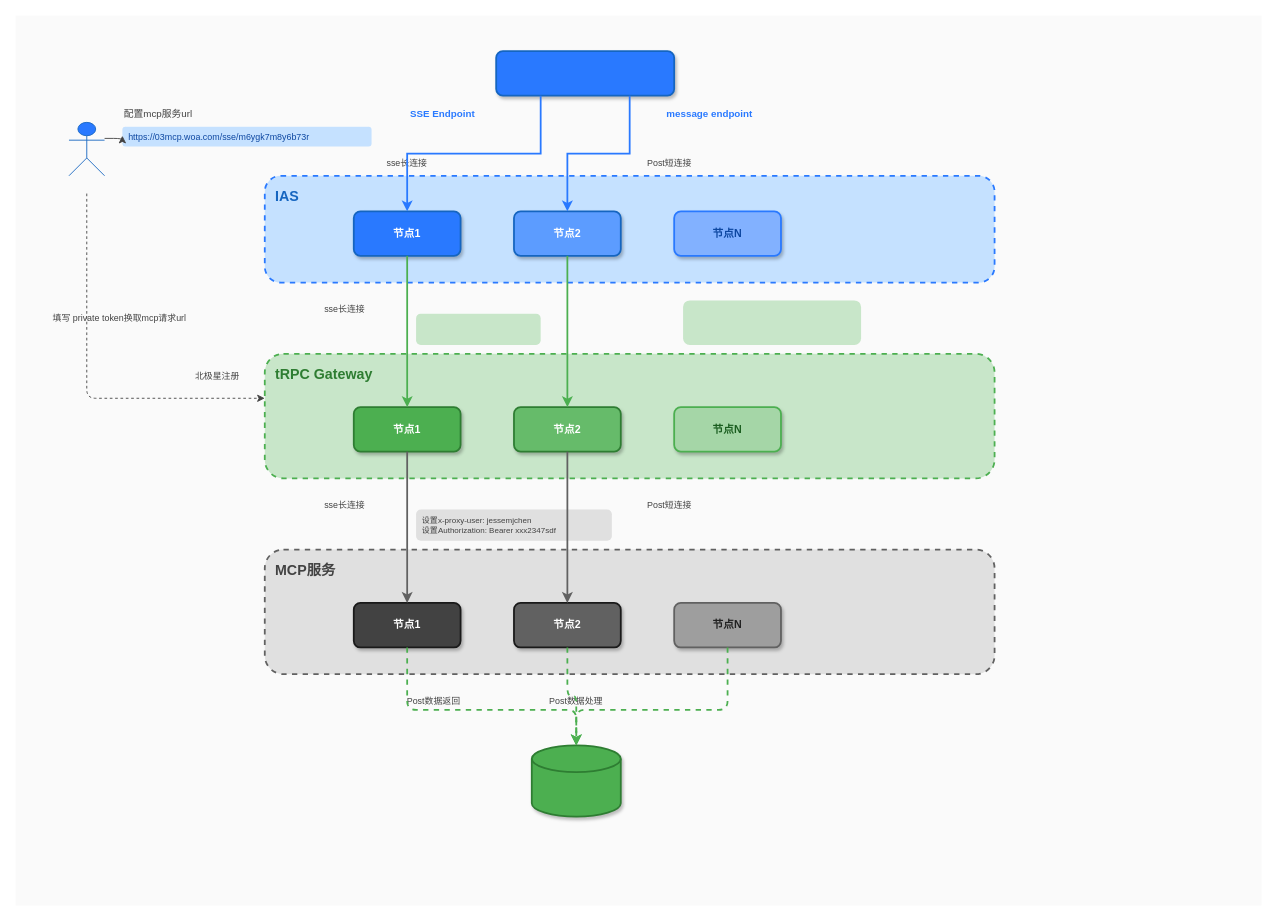
Some shapes in this 1276 by 920 pixel diagram are drawn without their labels. Here are the shapes that lost their labels. From the top down, the centre of each, then its label:
point (585, 74): Client cursor / cline / claude desktop
point (86, 148): 用户
point (478, 328): 劫持请求并返回path添加/ m6ygk7m8y6b73r
point (772, 322): 根据/m6ygk7m8y6b73r 这个后缀找到03 token及用户信息以及要转发的服务， 这个id会用作一致性hash转发
point (577, 781): Redis session存储
